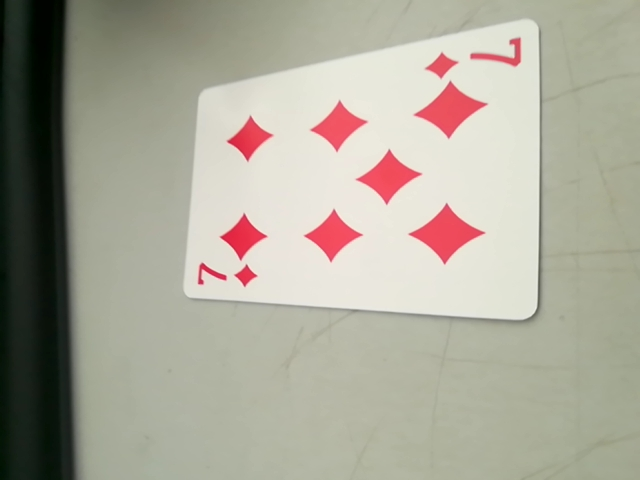fk 7: (426, 32, 528, 79), (190, 260, 262, 298)
